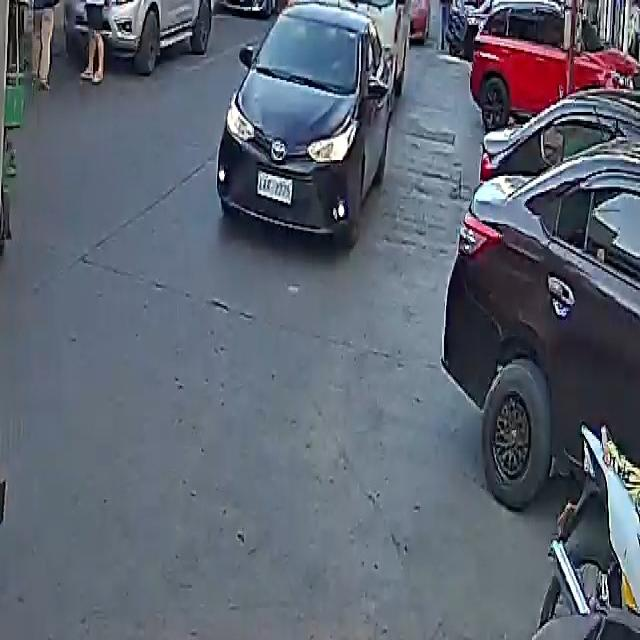car: (443, 95, 640, 519), (212, 0, 401, 240), (468, 0, 640, 130), (74, 0, 220, 71), (223, 0, 293, 16)
